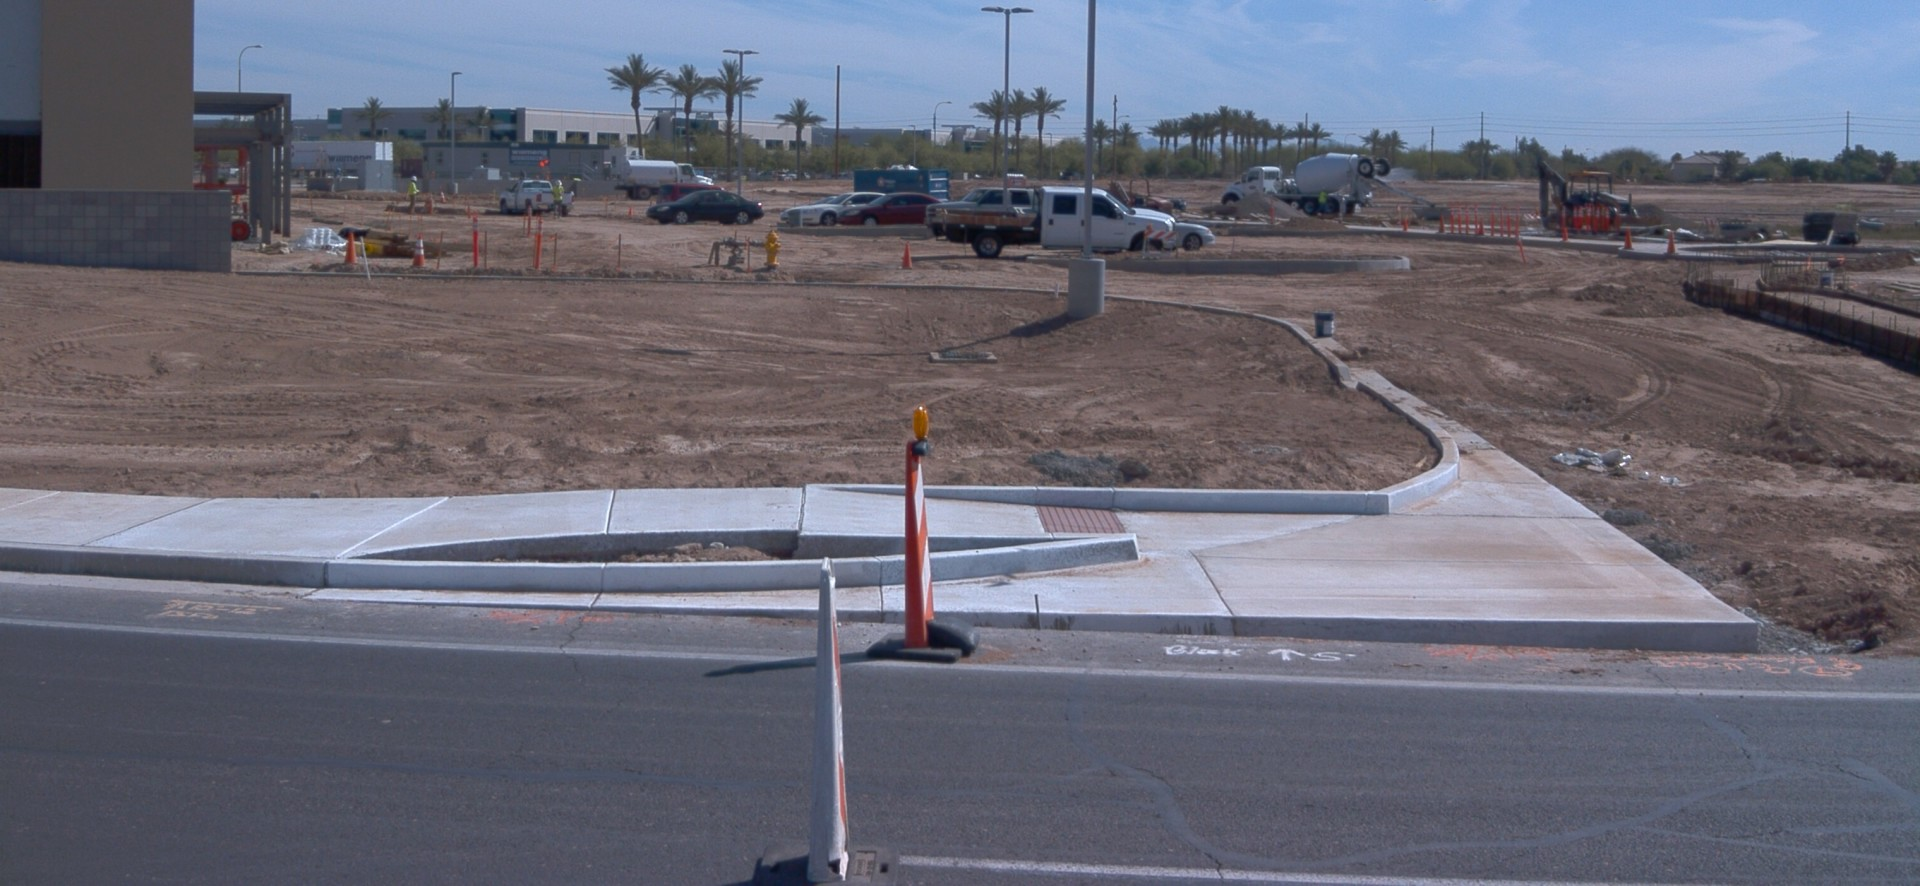TYPE_PEDESTRIAN: (552, 181, 567, 220), (406, 175, 421, 214), (1314, 186, 1331, 218)
TYPE_VEHICLE: (930, 187, 1179, 259), (1220, 154, 1446, 219), (1532, 155, 1672, 239), (925, 187, 1037, 240), (287, 136, 398, 181), (644, 187, 764, 227), (613, 155, 716, 201), (837, 189, 949, 228), (783, 190, 886, 229), (197, 143, 281, 183), (497, 177, 576, 217), (1108, 174, 1176, 218), (779, 194, 840, 226), (1157, 221, 1214, 253), (655, 184, 724, 205)
